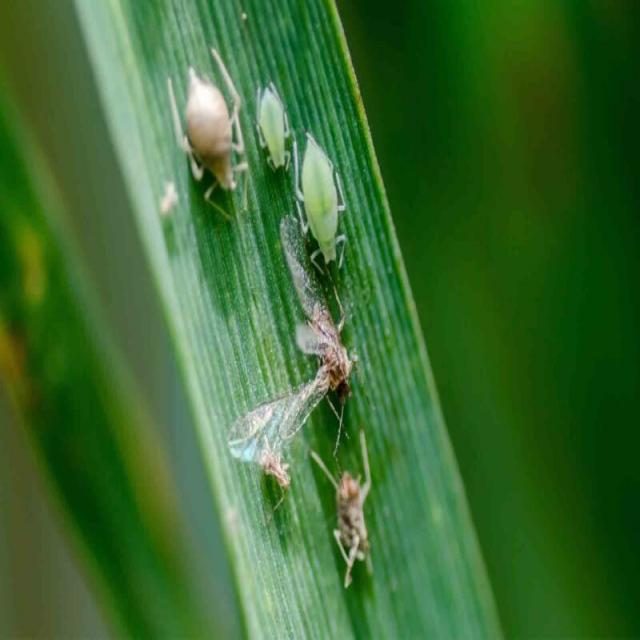Aphid-Grown-: (290, 124, 358, 276), (249, 66, 295, 178)
